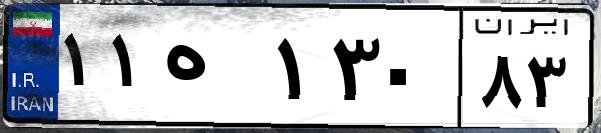0: (385, 28, 445, 110)
1: (270, 28, 330, 110), (57, 26, 110, 100), (110, 28, 158, 98)
3: (330, 28, 385, 110), (525, 38, 570, 115)
8: (475, 38, 525, 113)
ه: (158, 20, 270, 120)
